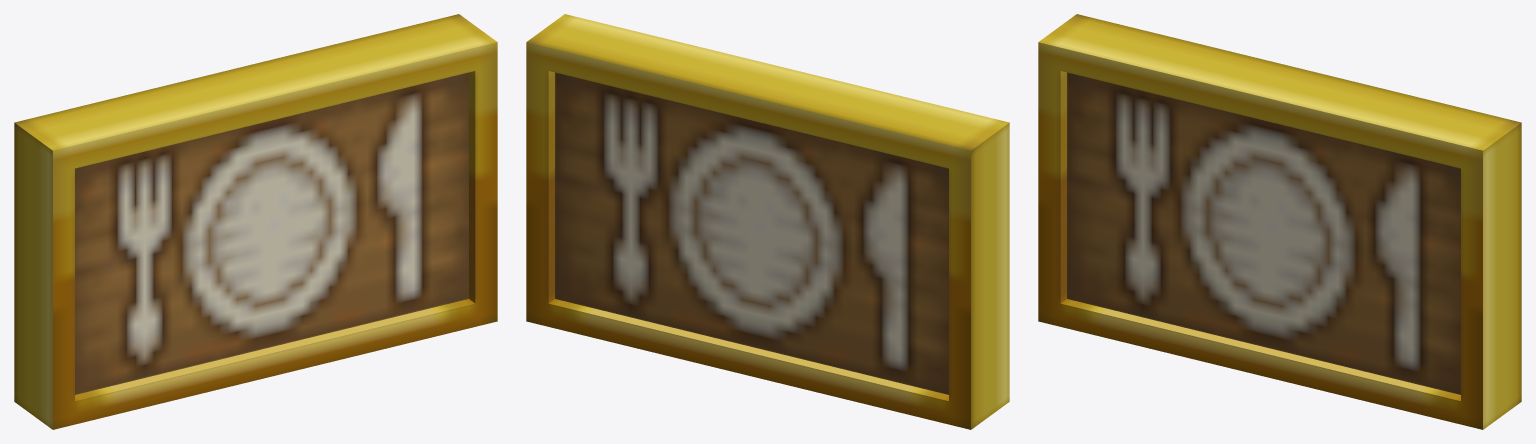
Rendered from Poly_Board_Sign_08.obj.
The picture shows the model from 3 angles, left to right: view 1: azimuth 30°, elevation 25°; view 2: azimuth 150°, elevation 25°; view 3: azimuth 330°, elevation 25°; orthographic projection.
Parts seen in each view (by area): view 1: Cube; view 2: Cube; view 3: Cube.
Boxes of the visible parts, x1,y1,x2,y2 form: Cube: (14, 14, 497, 429); Cube: (526, 14, 1009, 429); Cube: (1038, 14, 1521, 429).
Bounding box in the file's own units: 1 × 0.6 × 0.15.
Materials: 1 (1 with a texture image).
